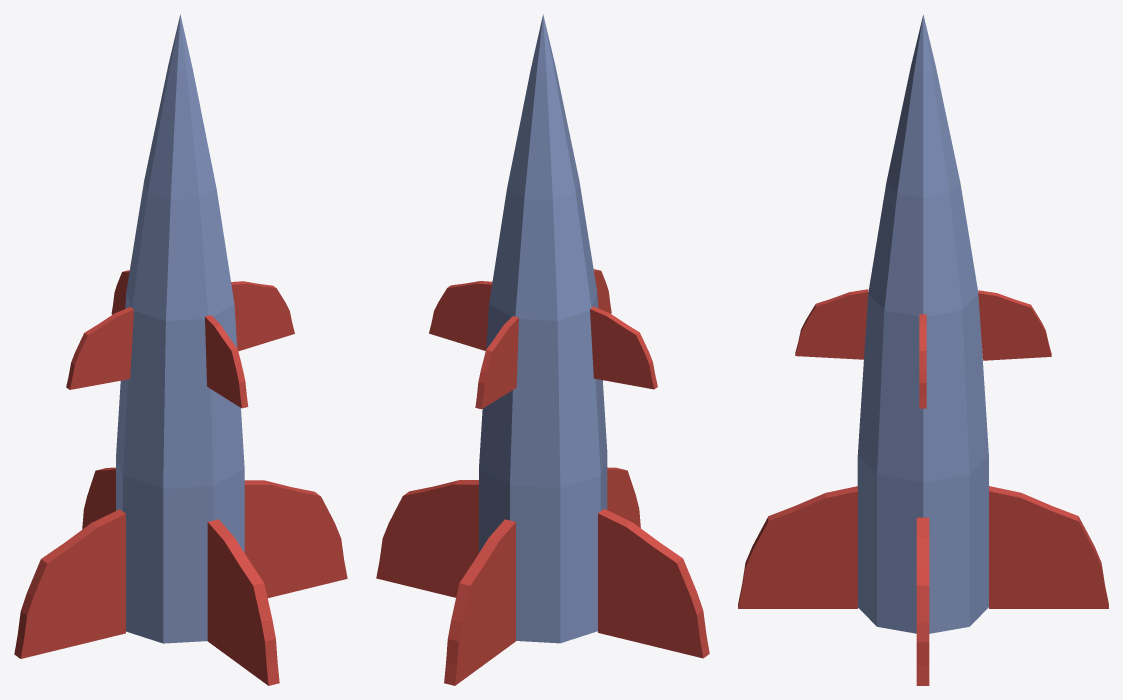
Rendered from Rocet.fbx.
The picture shows the model from 3 angles, left to right: view 1: azimuth 30°, elevation 25°; view 2: azimuth 150°, elevation 25°; view 3: azimuth 270°, elevation 25°; orthographic projection.
Parts seen in each view (by area): view 1: Circle.039; view 2: Circle.039; view 3: Circle.039.
Boxes of the visible parts, x1,y1,x2,y2 form: Circle.039: [14, 14, 347, 685]; Circle.039: [376, 14, 709, 685]; Circle.039: [738, 15, 1108, 685].
Bounding box in the file's own units: 567 × 999 × 566.
